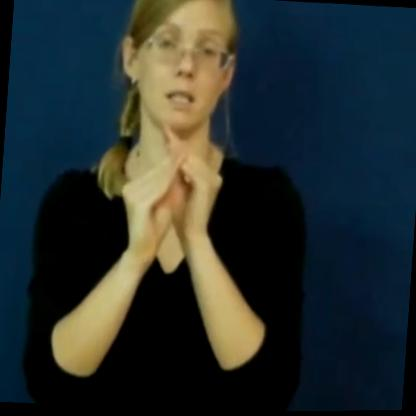Fix: (110, 117, 238, 252)
